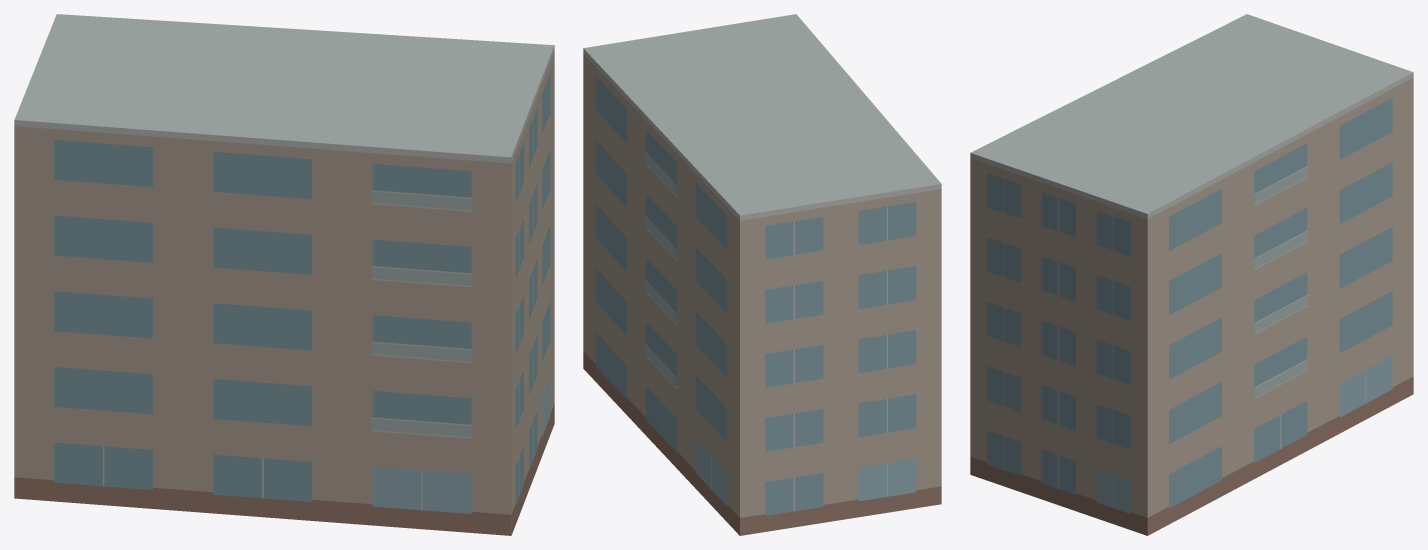
The model's file is survey-upis-33008069.glb.
3 views of the same model, side by side, from view 1: azimuth 30°, elevation 25°; view 2: azimuth 150°, elevation 25°; view 3: azimuth 270°, elevation 25° (orthographic). The views are drawn at different scales.
Visible parts, largest first — view 1: survey-upis-33008069.tmp; view 2: survey-upis-33008069.tmp; view 3: survey-upis-33008069.tmp.
Boxes of the visible parts, left/top/right/bottom form: survey-upis-33008069.tmp: left=14, top=14, right=554, bottom=535; survey-upis-33008069.tmp: left=583, top=14, right=941, bottom=535; survey-upis-33008069.tmp: left=970, top=14, right=1413, bottom=535.
Bounding box in the file's own units: 20.12 × 15.1 × 18.86.
